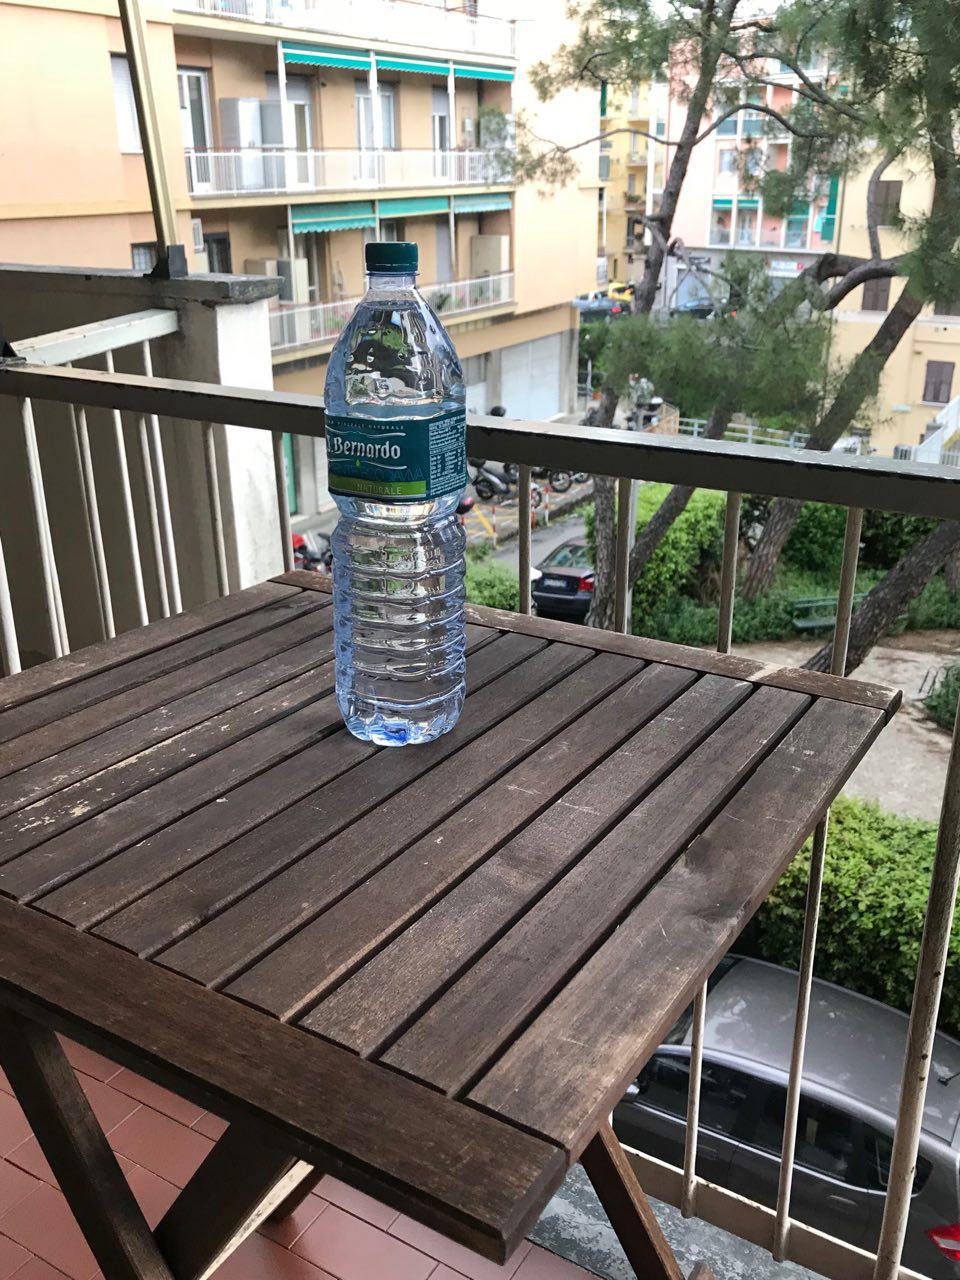san_bernardo: (323, 241, 467, 748)
